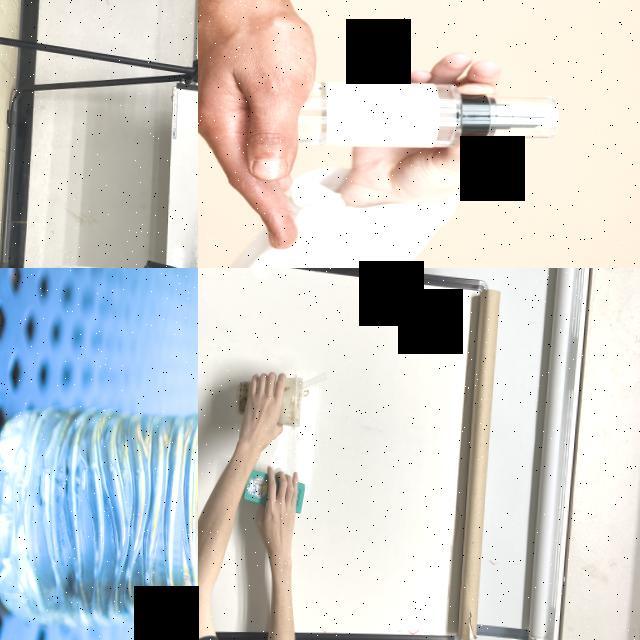bottle: (0, 396, 198, 640)
cup: (235, 372, 304, 430)
